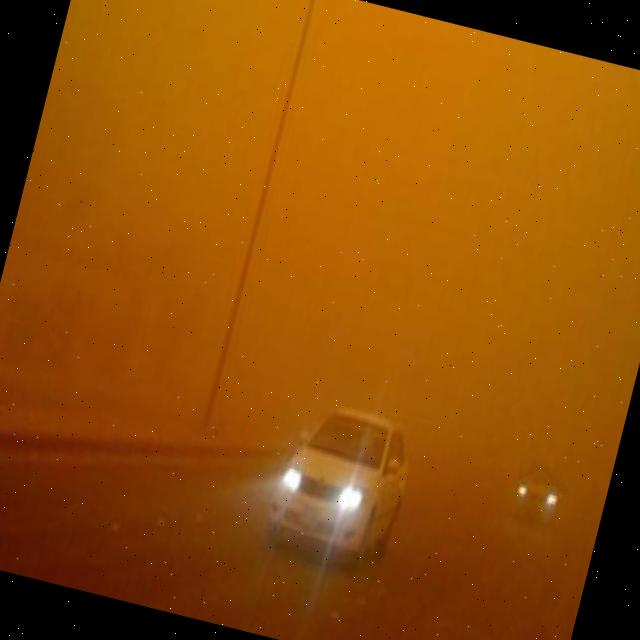car: (264, 392, 421, 570), (508, 449, 573, 523)
